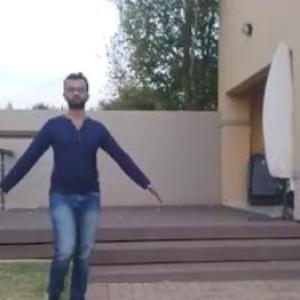land: (0, 80, 155, 299)
